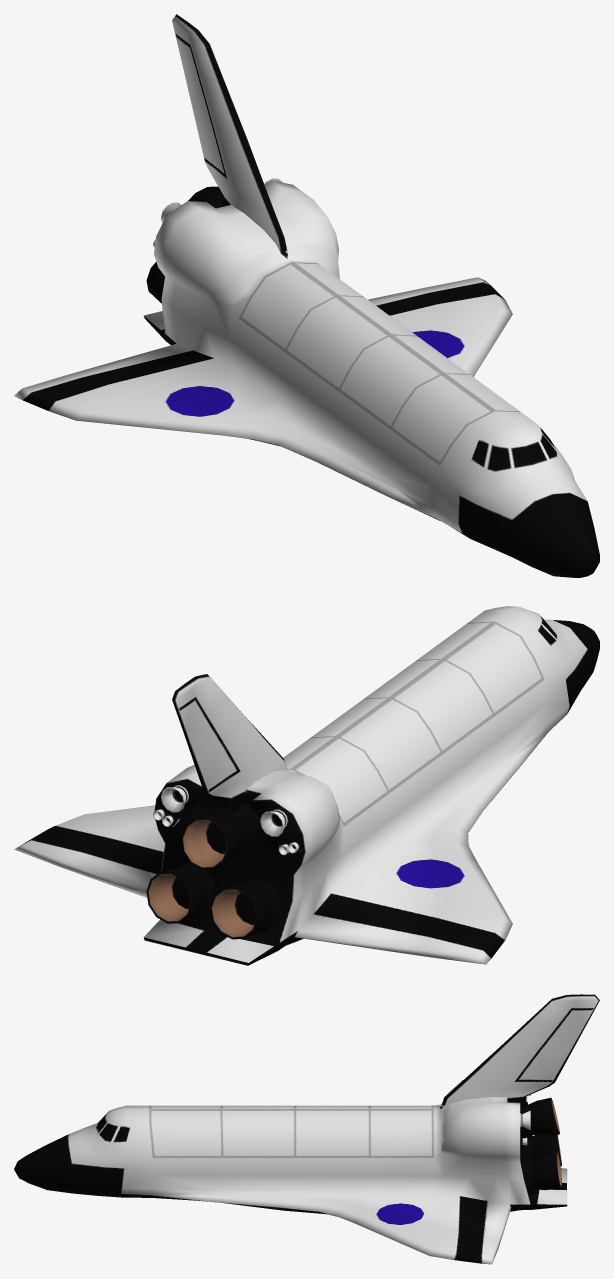
Rendered from kit-space-shuttle.glb.
3 renders of one model, top to bottom at view 1: azimuth 30°, elevation 25°; view 2: azimuth 150°, elevation 25°; view 3: azimuth 270°, elevation 25°, orthographic. The views are drawn at different scales.
Parts seen in each view (by area): view 1: spaceShuttleUnwrapped; view 2: spaceShuttleUnwrapped; view 3: spaceShuttleUnwrapped.
Part boxes in pixels (<box>): spaceShuttleUnwrapped: <box>14,14,599,577</box>; spaceShuttleUnwrapped: <box>14,606,599,965</box>; spaceShuttleUnwrapped: <box>14,994,599,1264</box>.
Size of the model in its own units: 2.33 by 1.38 by 3.58.
Materials: 1 (1 with a texture image).
